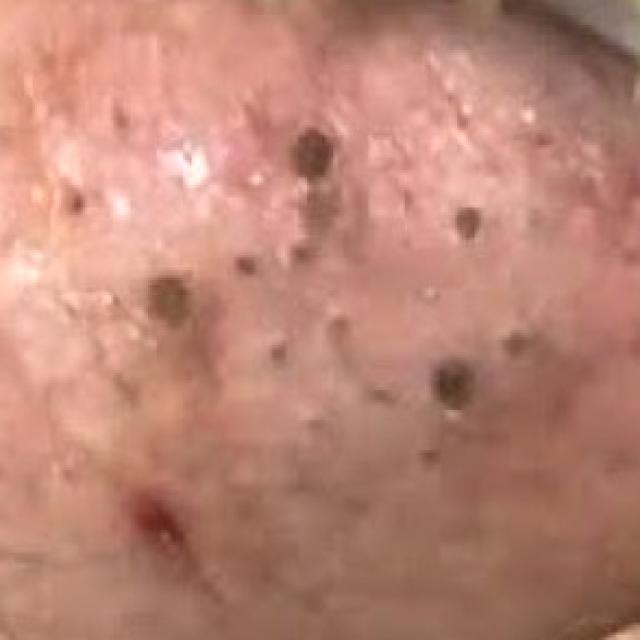blackhead: (152, 280, 186, 322), (436, 364, 472, 402), (298, 138, 330, 174), (458, 212, 478, 238), (504, 336, 528, 357), (68, 195, 84, 215), (237, 259, 254, 275), (291, 248, 313, 260), (422, 450, 439, 464), (272, 346, 286, 361)
